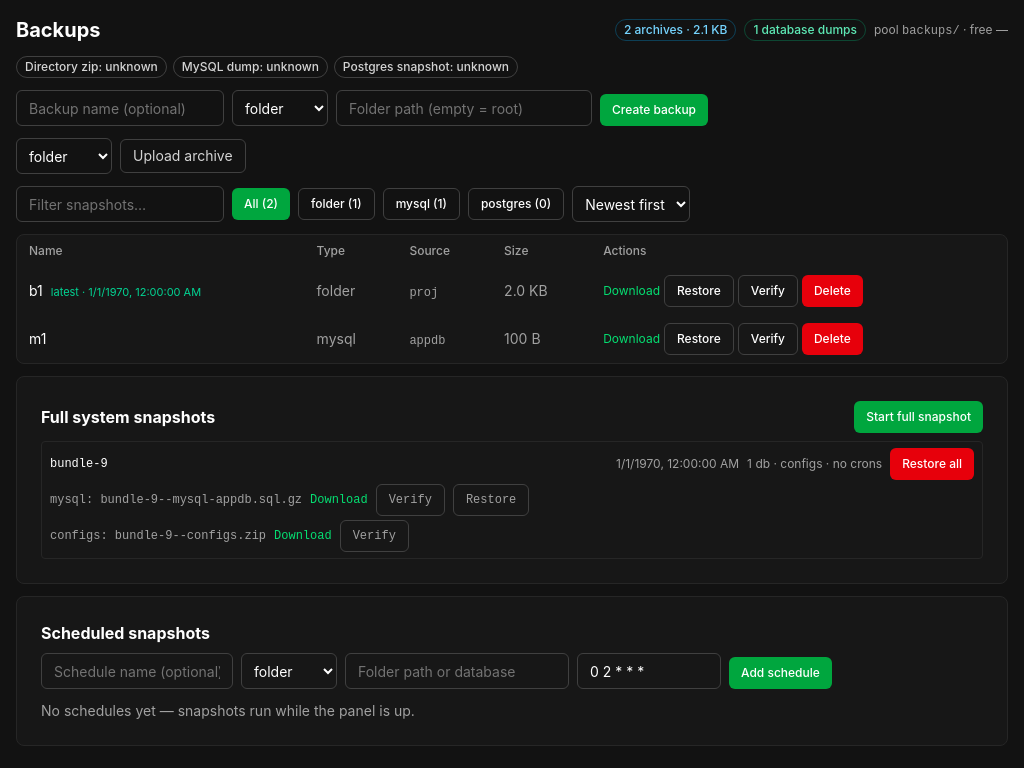
Scenario: web backup page › restore-alls behind a danger dialog with live steps
Check: the text "bundle-9" is shown, box [50,456,108,472]
Check: the text "1 db · configs · no crons" is shown, box [747,456,882,472]
Click the button "Restore all" at (932, 464), box [890,448,974,480]
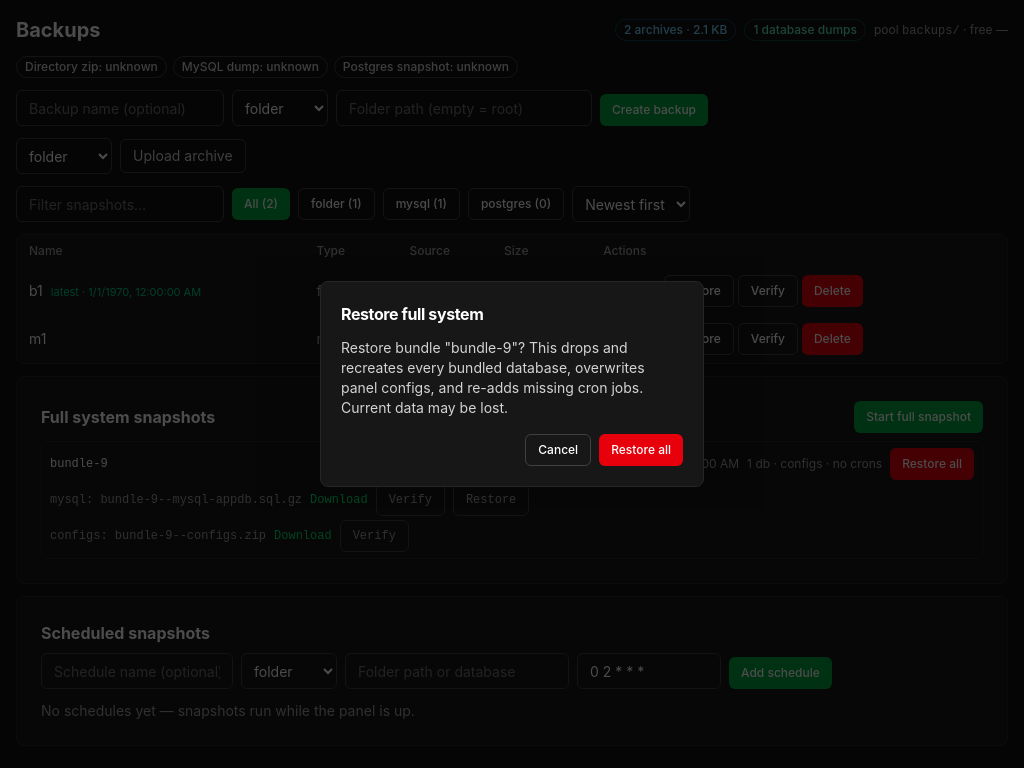
Check: the dialog shows "drops and recreates", box [341,339,645,416]
Click the button "Restore all" at (641, 450), box [599,434,683,466]
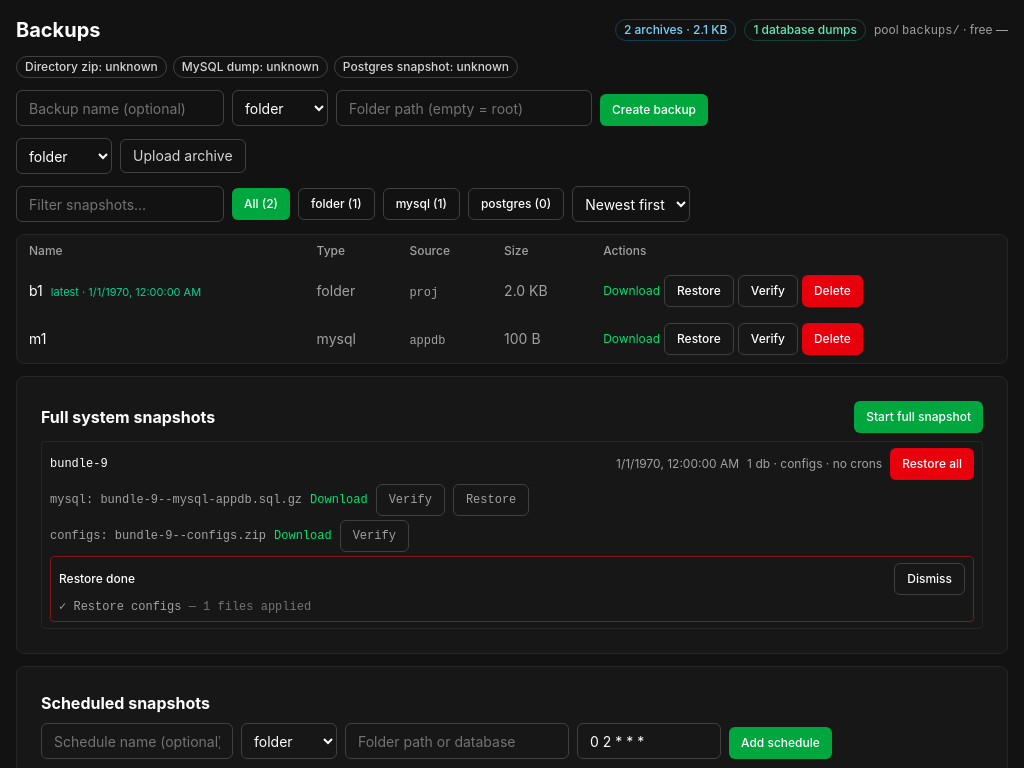
Check: the text "— 1 files applied" is shown, box [182,600,311,614]
Check: the button "Dismiss" is shown, box [894,563,965,595]
Click the button "Verify" in the row of "bundle-9--mysql-appdb.sql.gz" at (410, 500), box [376,484,445,516]
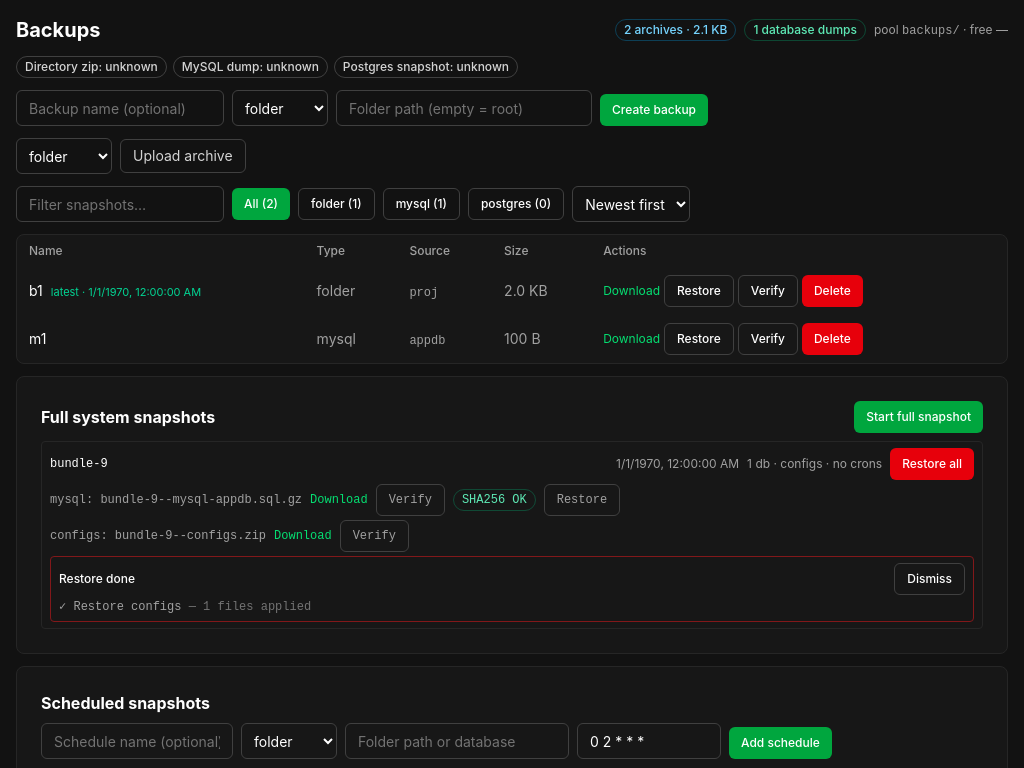
Check: the text "SHA256 OK" is shown, box [453,489,536,511]
Click the button "Restore" in the row of "bundle-9--mysql-appdb.sql.gz" at (582, 500), box [544,484,620,516]
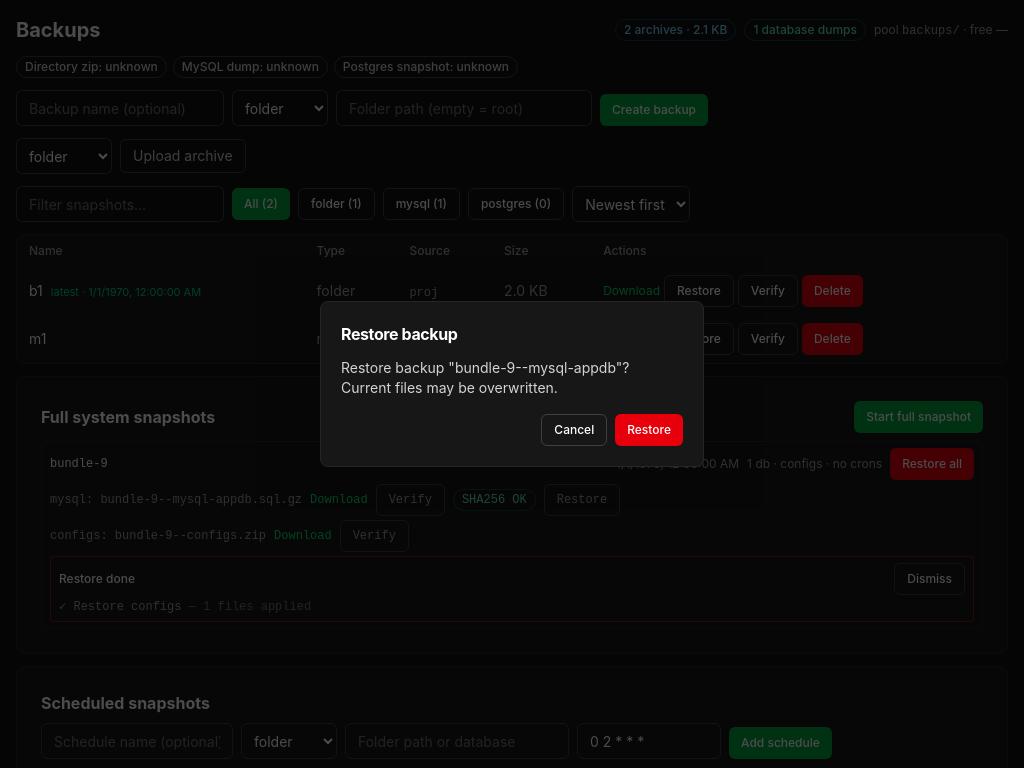
Check: the dialog shows "may be overwritten", box [341,359,630,396]
